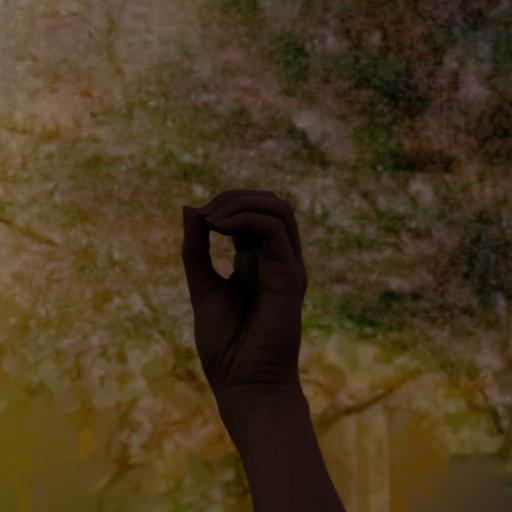O: (166, 174, 344, 508)
